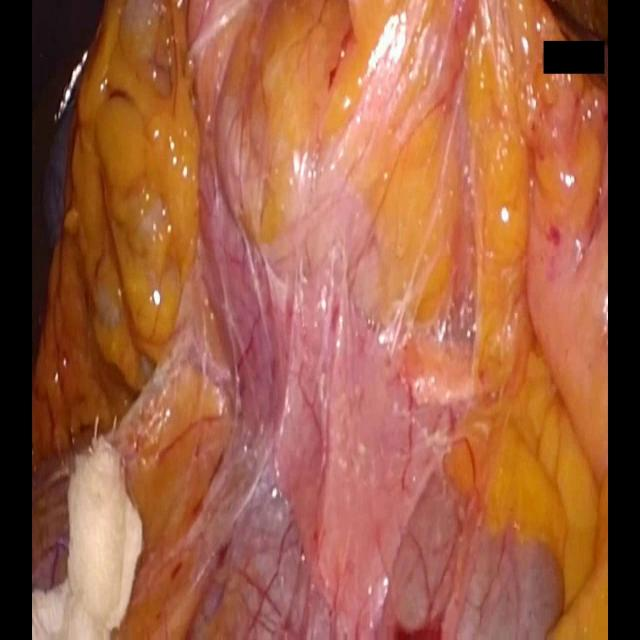surgical-area: (32, 0, 610, 639)
